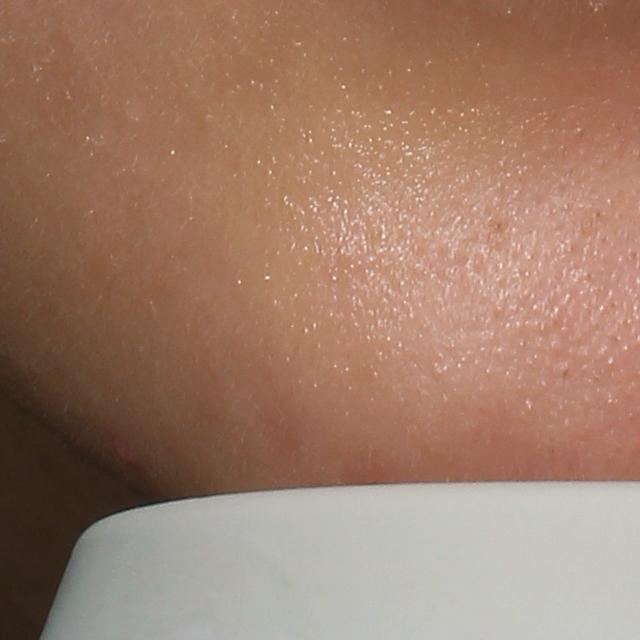papule: (115, 436, 140, 469)
